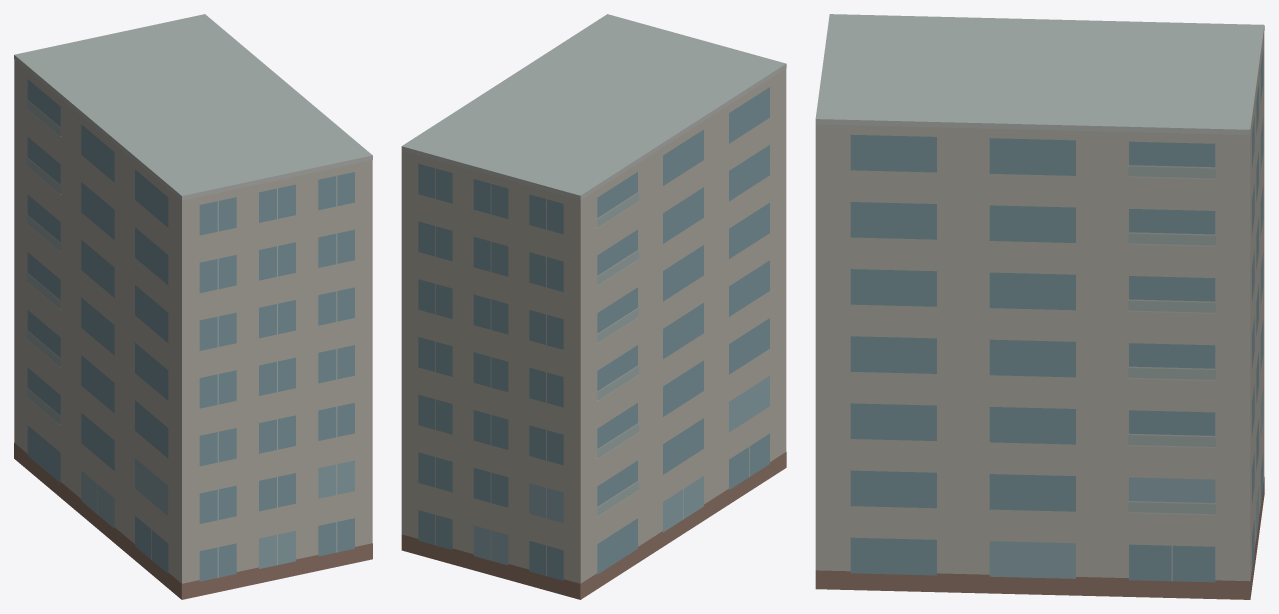
The model's file is survey-upis-32701726.glb.
3 renders of one model, left to right at view 1: azimuth 30°, elevation 25°; view 2: azimuth 150°, elevation 25°; view 3: azimuth 270°, elevation 25°, orthographic. The views are drawn at different scales.
Visible parts, largest first — view 1: survey-upis-32701726.tmp; view 2: survey-upis-32701726.tmp; view 3: survey-upis-32701726.tmp.
Part boxes in pixels (box(x1,y1,x2,y2)): survey-upis-32701726.tmp: box(14, 14, 372, 599); survey-upis-32701726.tmp: box(401, 14, 786, 599); survey-upis-32701726.tmp: box(815, 14, 1264, 599).
Size of the model in its own units: 11.29 by 21.35 by 18.49.
